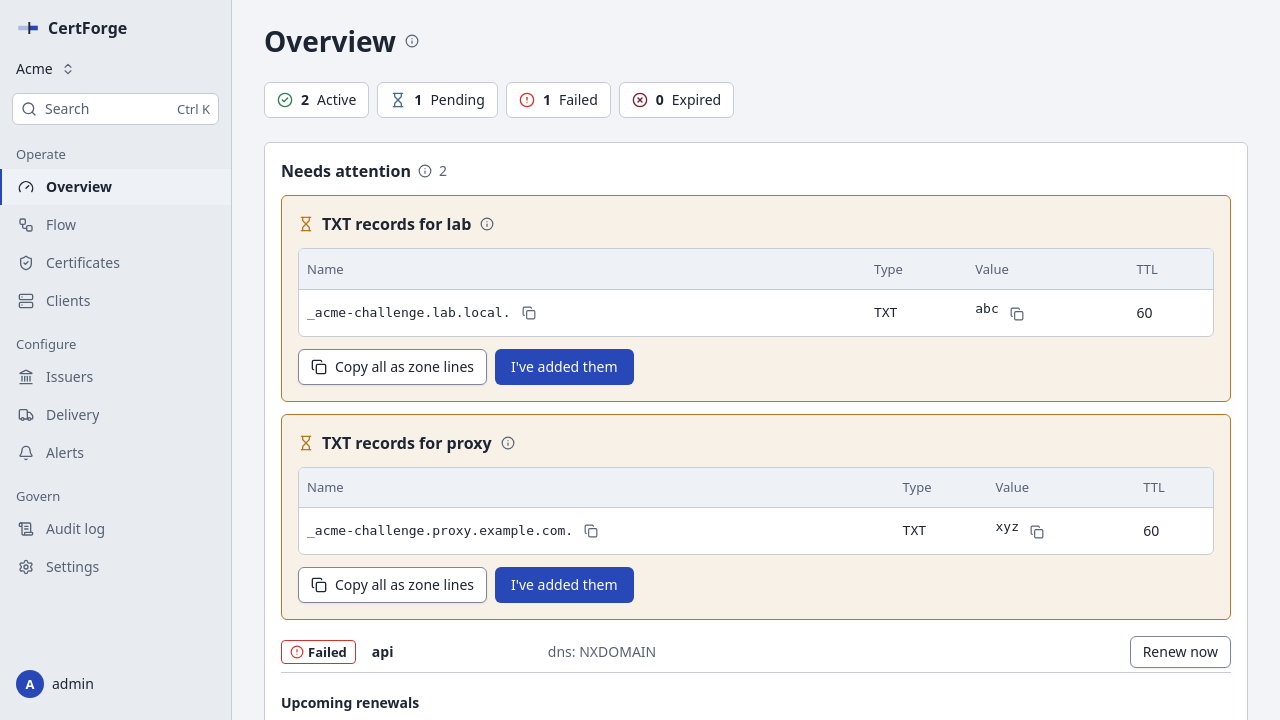
Test case: shows a failure toast naming the certificate when Renew now fails
This screenshot has width=1280, height=720.
Click the button "Renew now" at (1180, 652), box [1130,636,1231,668]
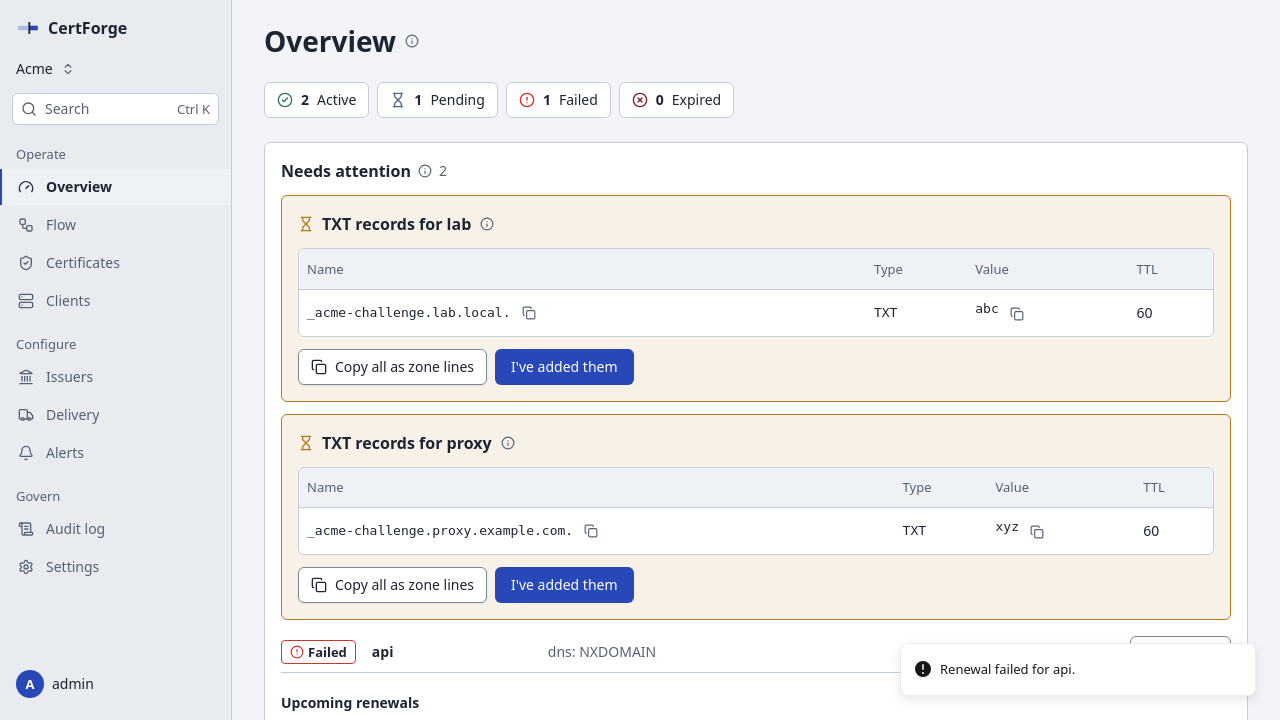
expect the text "Renewal failed for api." is shown: met, box [940,660,1075,679]
